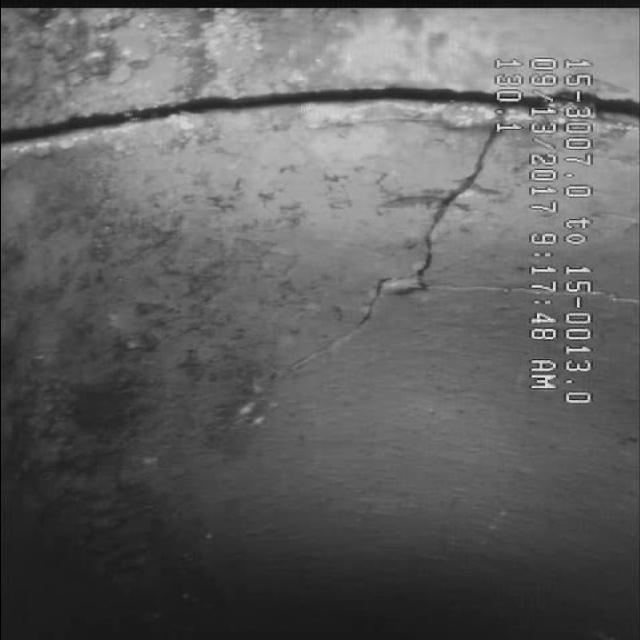Crack: (272, 179, 503, 413)
